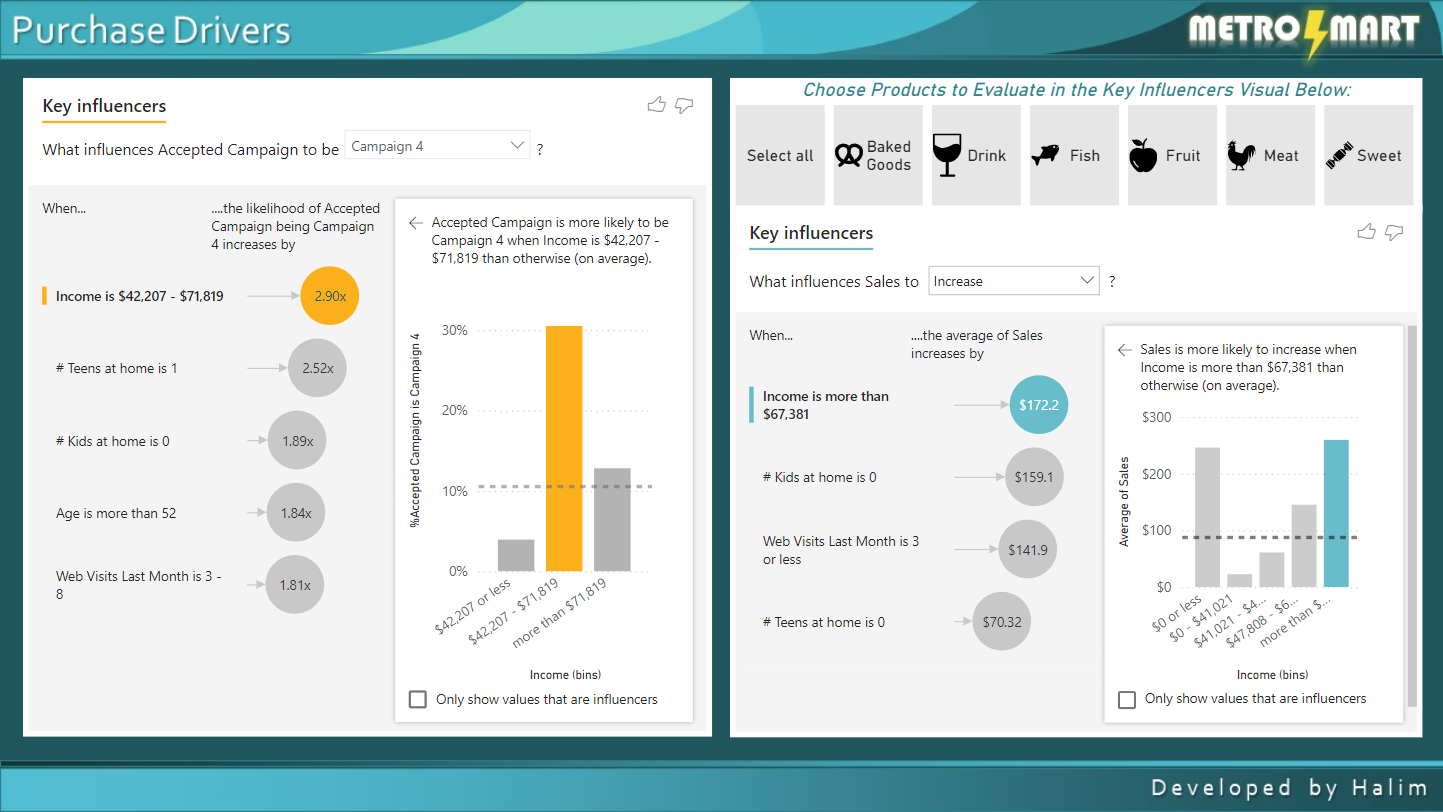

Layout of this report page (visuals, bound fields, positions):
{"tool":"powerbi","page":{"name":"Purchase Drivers","canvas":[1280,720],"ordinal":2},"visuals":[{"type":"keyDriversVisual","fields":{"Target":["Campaign.Campaign"],"ExplainBy":["1 2 marketmindz_research_data. Income ","1 2 marketmindz_research_data.Age","1 2 marketmindz_research_data.Country","1 2 marketmindz_research_data.Education","1 2 marketmindz_research_data.Kidhome","1 2 marketmindz_research_data.Teenhome","1 2 marketmindz_research_data.Web Visits Last Month"]},"box":[20.4,69.2,610.9,584.3],"z":0},{"type":"keyDriversVisual","fields":{"ExplainBy":["1 2 marketmindz_research_data. Income ","1 2 marketmindz_research_data.Age","1 2 marketmindz_research_data.Country","1 2 marketmindz_research_data.Education","1 2 marketmindz_research_data.Kidhome","1 2 marketmindz_research_data.Teenhome","1 2 marketmindz_research_data.Web Visits Last Month"],"Target":["Products.Sales"]},"box":[647.3,181.8,613.6,471.7],"z":1000},{"type":"advancedSlicerVisual","title":"Choose Products to Evaluate in the Key Influencers Visual Below:","fields":{"Values":["Products.Product"]},"box":[647.3,69.2,613.6,118.8],"z":2000}]}

Visuals, with their boxes in screenshot pixels (x1, y1, x2, y2), scaled from the page's 1280x720 canvas onto the 1443x812 screenshot:
keyDriversVisual - Campaign.Campaign x 1 2 marketmindz_research_data. Income : (left=23, top=78, right=712, bottom=737)
keyDriversVisual - 1 2 marketmindz_research_data. Income  x 1 2 marketmindz_research_data.Age: (left=730, top=205, right=1421, bottom=737)
"Choose Products to Evaluate in the Key Influencers Visual Below:" advancedSlicerVisual: (left=730, top=78, right=1421, bottom=212)
